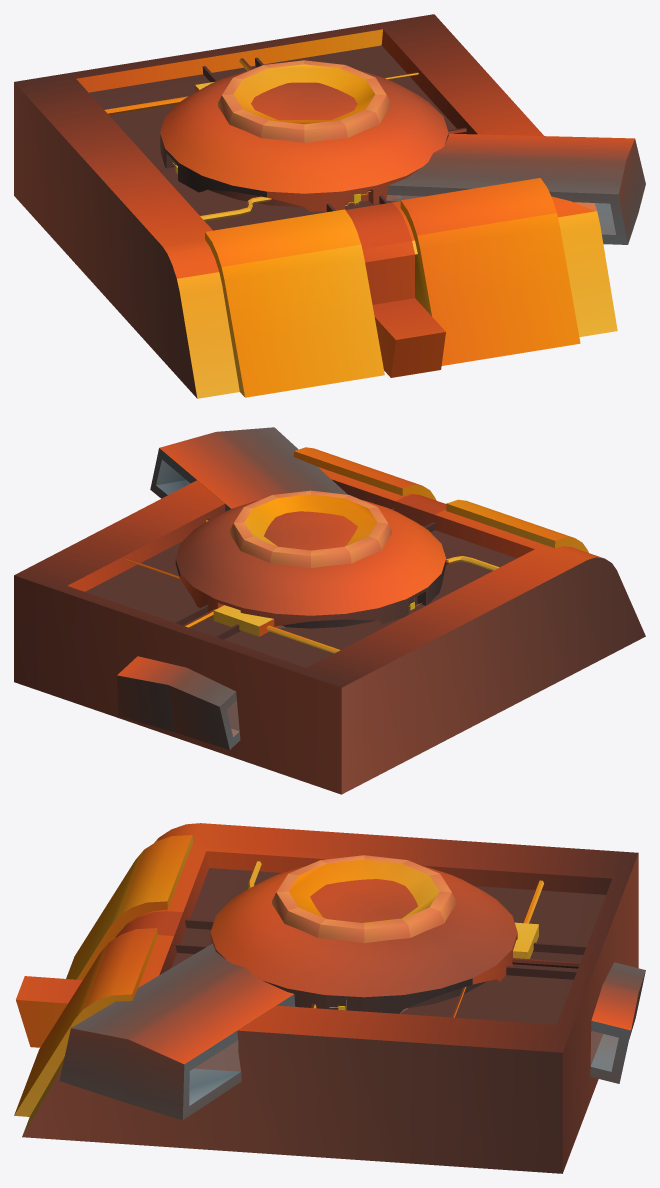
File: BaseLunar.fbx
3 renders of one model, top to bottom at view 1: azimuth 30°, elevation 25°; view 2: azimuth 150°, elevation 25°; view 3: azimuth 270°, elevation 25°, orthographic. The views are drawn at different scales.
Parts seen in each view (by area): view 1: Base_MainPlex, Base_ExternalRoom, Base_Arm, Base_Externo, Base_Arm_Window; view 2: Base_MainPlex, Base_ExternalRoom, Base_Arm, Base_Externo, Base_Arm_Window; view 3: Base_MainPlex, Base_ExternalRoom, Base_Arm, Base_Externo, Base_Arm_Window.
Part boxes in pixels (x1=…): Base_MainPlex: x1=14, y1=14, x2=617, y2=398; Base_ExternalRoom: x1=160, y1=70, x2=448, y2=211; Base_Arm: x1=387, y1=133, x2=645, y2=244; Base_Externo: x1=218, y1=60, x2=390, y2=142; Base_Arm_Window: x1=386, y1=195, x2=615, y2=234; Base_MainPlex: x1=14, y1=447, x2=645, y2=794; Base_ExternalRoom: x1=175, y1=500, x2=446, y2=628; Base_Arm: x1=117, y1=427, x2=347, y2=749; Base_Externo: x1=229, y1=490, x2=391, y2=567; Base_Arm_Window: x1=156, y1=460, x2=239, y2=736; Base_MainPlex: x1=14, y1=823, x2=638, y2=1173; Base_ExternalRoom: x1=210, y1=866, x2=517, y2=1013; Base_Arm: x1=59, y1=943, x2=645, y2=1120; Base_Externo: x1=272, y1=855, x2=456, y2=943; Base_Arm_Window: x1=189, y1=1004, x2=618, y2=1105.
Bounding box in the file's own units: 1791 × 550 × 1885.
